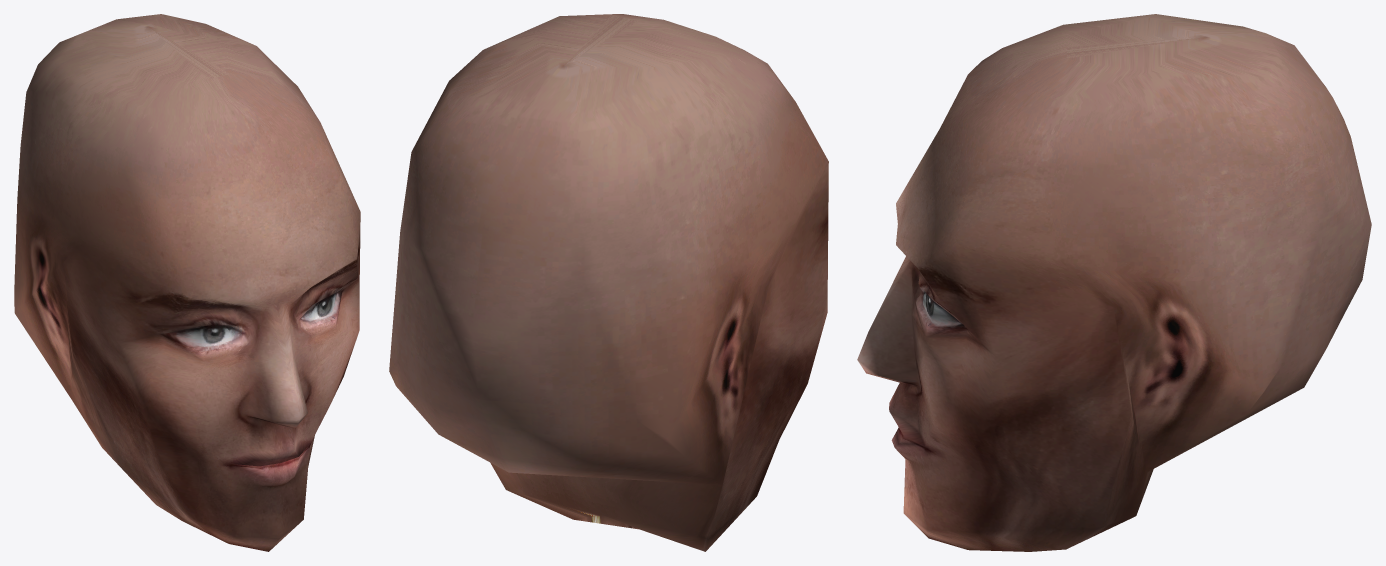
File: b_n_imperial_m_head_04.glb
3 views of the same model, side by side, from view 1: azimuth 30°, elevation 25°; view 2: azimuth 150°, elevation 25°; view 3: azimuth 270°, elevation 25° (orthographic). The views are drawn at different scales.
Parts seen in each view (by area): view 1: Tri B_N_Imperial_M_Head_04; view 2: Tri B_N_Imperial_M_Head_04; view 3: Tri B_N_Imperial_M_Head_04.
Boxes of the visible parts, box(x1,y1,x2,y2) form: Tri B_N_Imperial_M_Head_04: box(14, 14, 360, 551); Tri B_N_Imperial_M_Head_04: box(389, 14, 828, 551); Tri B_N_Imperial_M_Head_04: box(857, 14, 1371, 551).
Size of the model in its own units: 0.097 by 0.1598 by 0.1487.
1 material, 1 textured.
